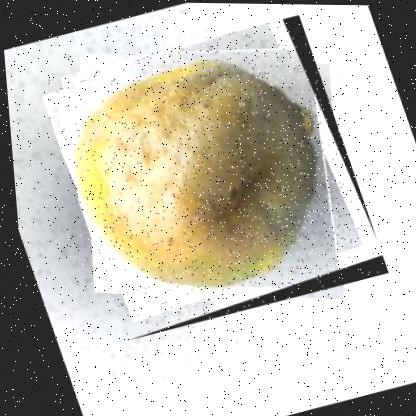orange_rotten: (29, 8, 388, 342)
